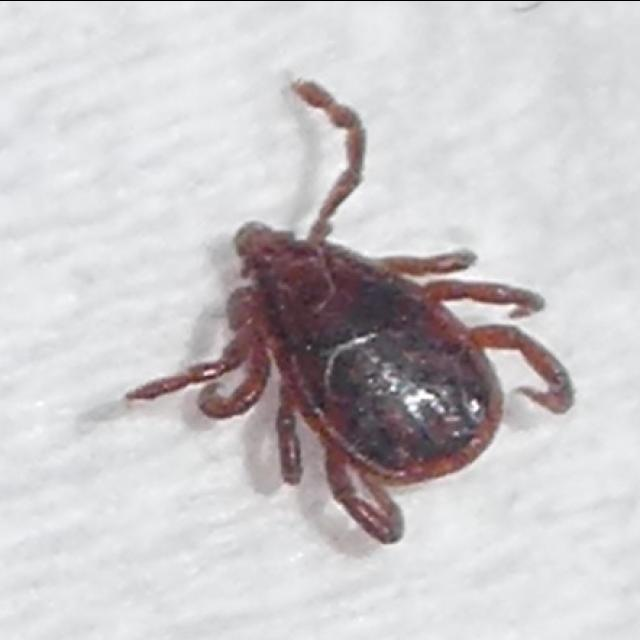Rhipicephalus Sanguineus-M: (127, 81, 576, 546)
